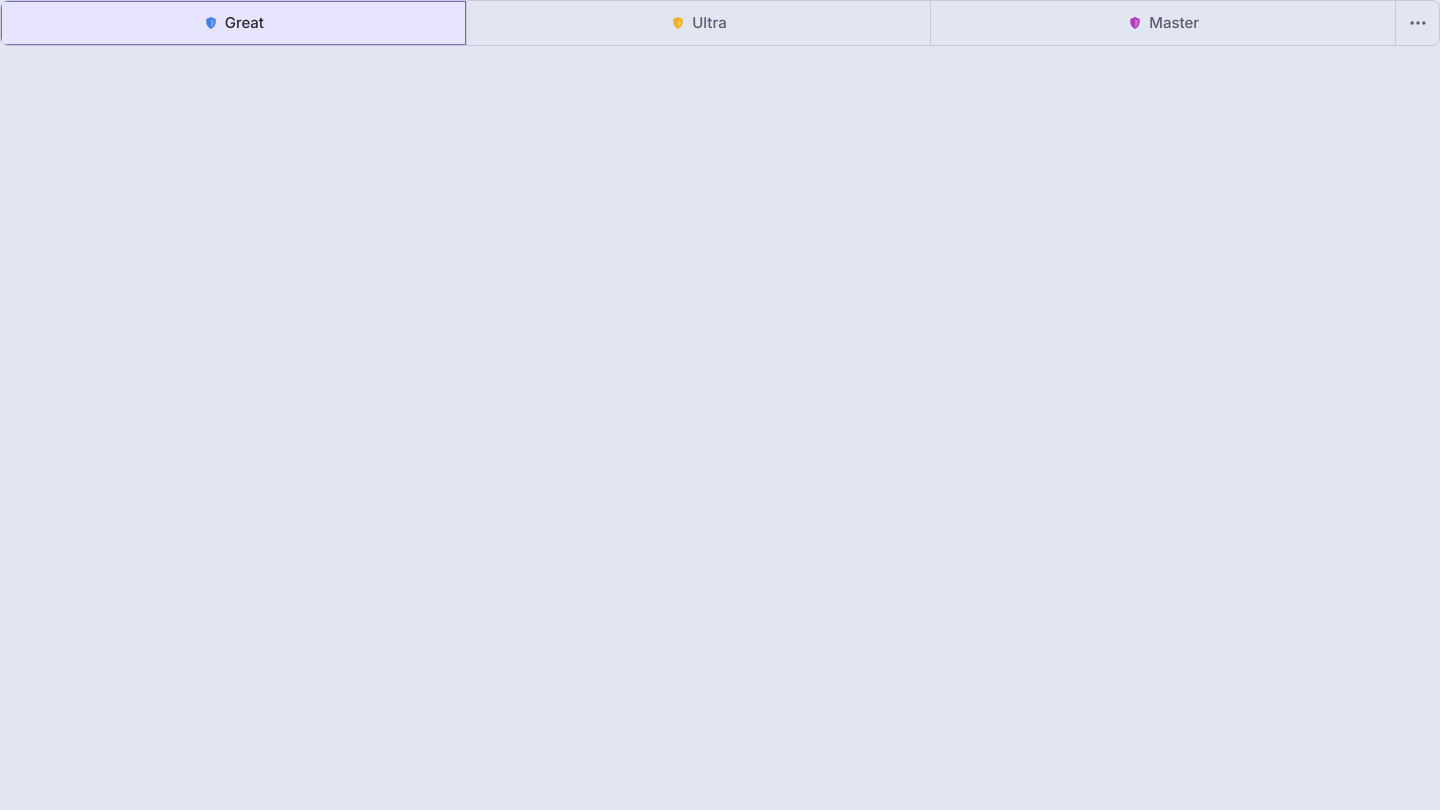
Test: LeagueSwitcher rotation cup in play › shows the selected rotation cup in the overflow slot
Click the button named "More leagues and cups" at (1418, 23), box 1396,0 -> 1439,46
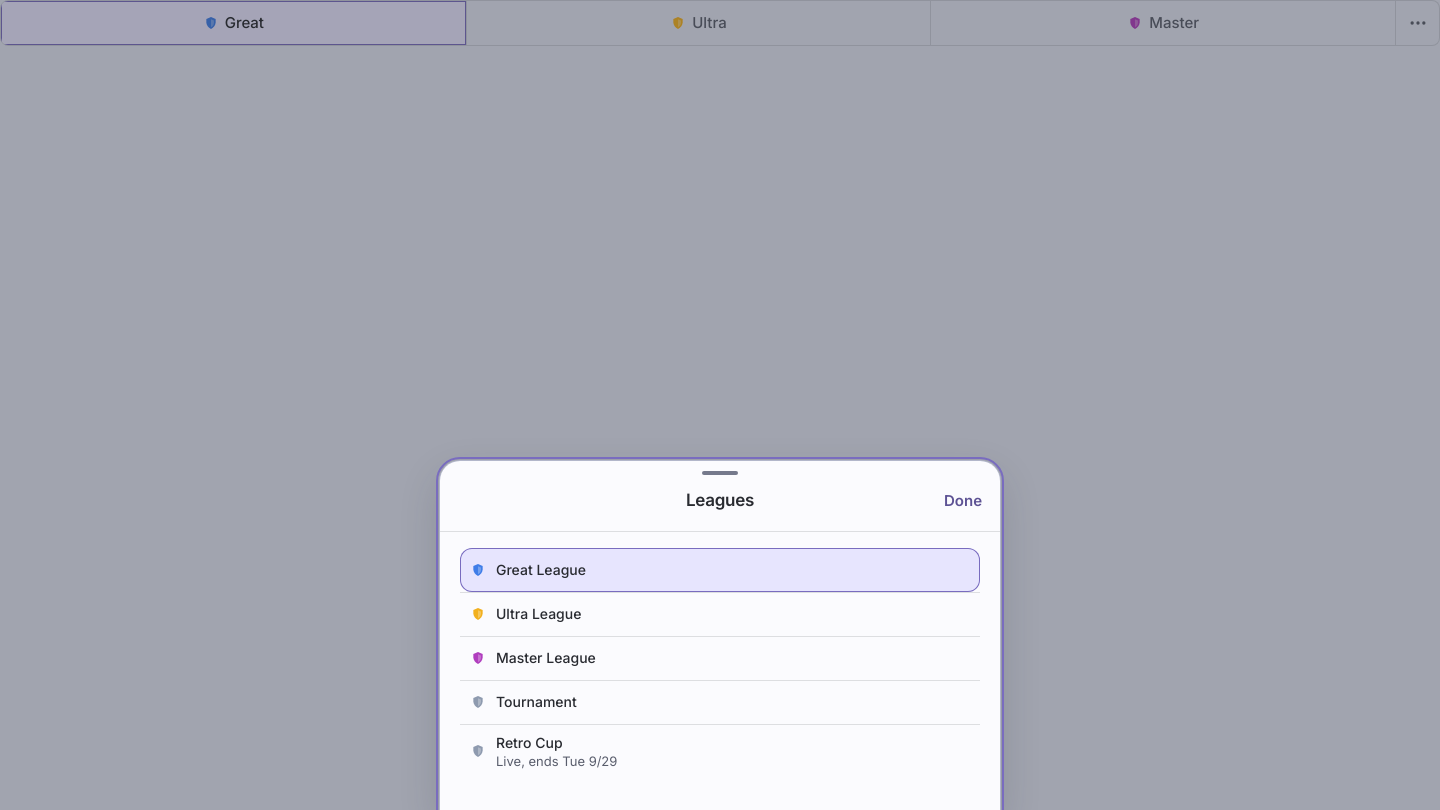
Click the radio button labelled "Retro Cup Live, ends Tue 9/29" at (529, 742), box 460,724 -> 980,778
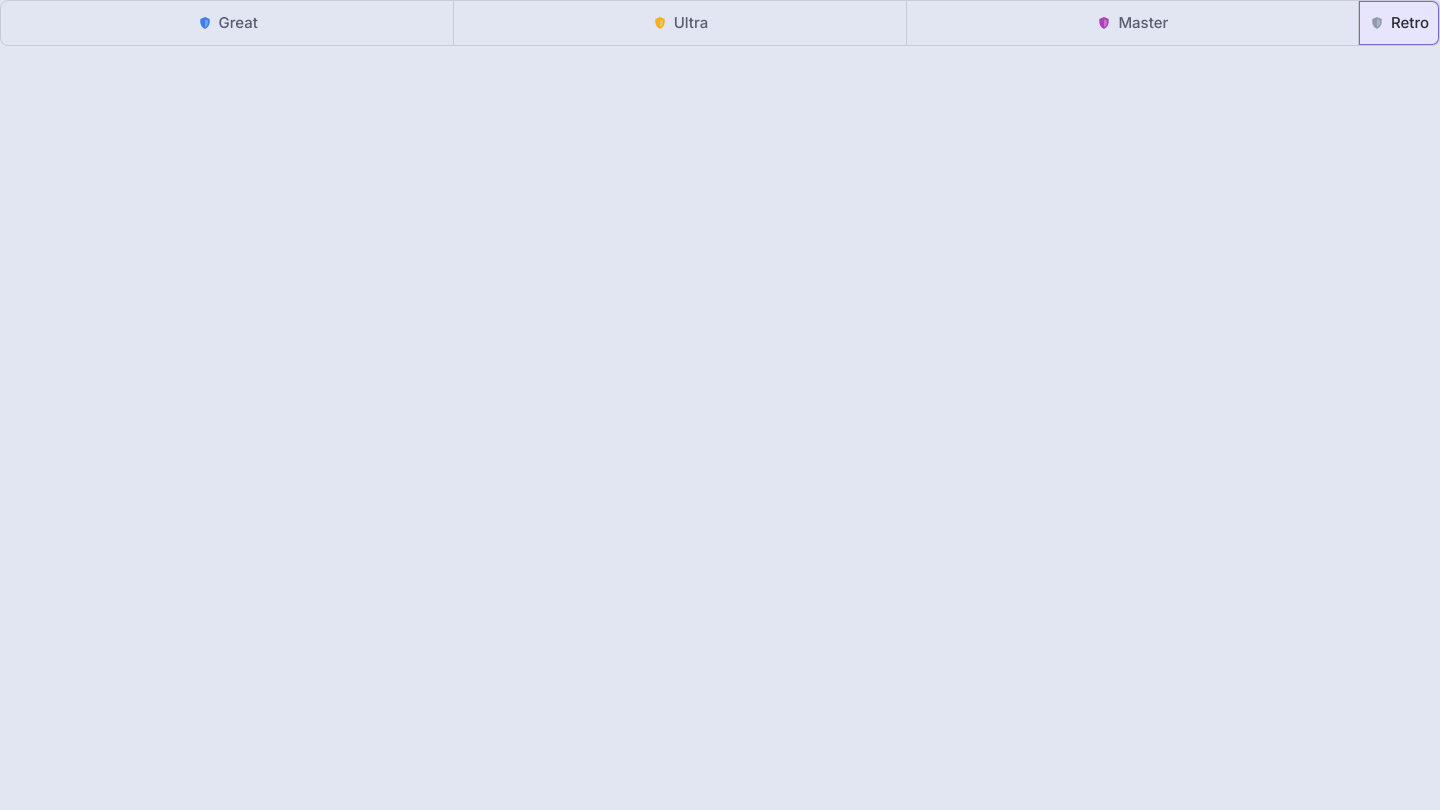
Expected: the button with aria-label "Retro Cup League, More leagues and cups" reads "Retro", 1359,0 -> 1439,46
